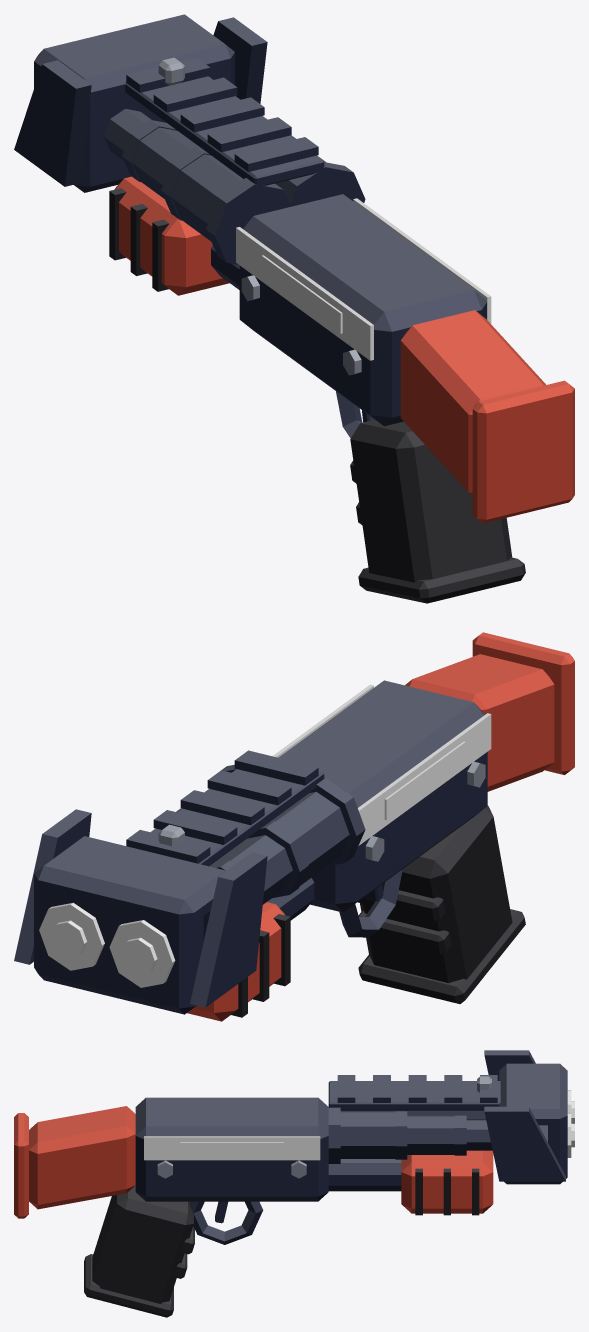
The model's file is Scatter.fbx.
3 views of the same model, one above another, from view 1: azimuth 30°, elevation 25°; view 2: azimuth 150°, elevation 25°; view 3: azimuth 270°, elevation 25° (orthographic). The views are drawn at different scales.
Parts seen in each view (by area): view 1: Body, Halo_Glow, Accent_Glow; view 2: Body, Halo_Glow, Accent_Glow; view 3: Body, Halo_Glow, Accent_Glow.
Part boxes in pixels (x1=…): Body: x1=14, y1=14, x2=574, y2=603; Halo_Glow: x1=236, y1=198, x2=491, y2=360; Accent_Glow: x1=261, y1=255, x2=342, y2=333; Body: x1=14, y1=632, x2=574, y2=1021; Halo_Glow: x1=39, y1=684, x2=491, y2=987; Accent_Glow: x1=51, y1=741, x2=465, y2=974; Body: x1=14, y1=1050, x2=567, y2=1317; Halo_Glow: x1=144, y1=1090, x2=571, y2=1160; Accent_Glow: x1=180, y1=1101, x2=574, y2=1156.
Bounding box in the file's own units: 0.98 × 1.67 × 3.78.
